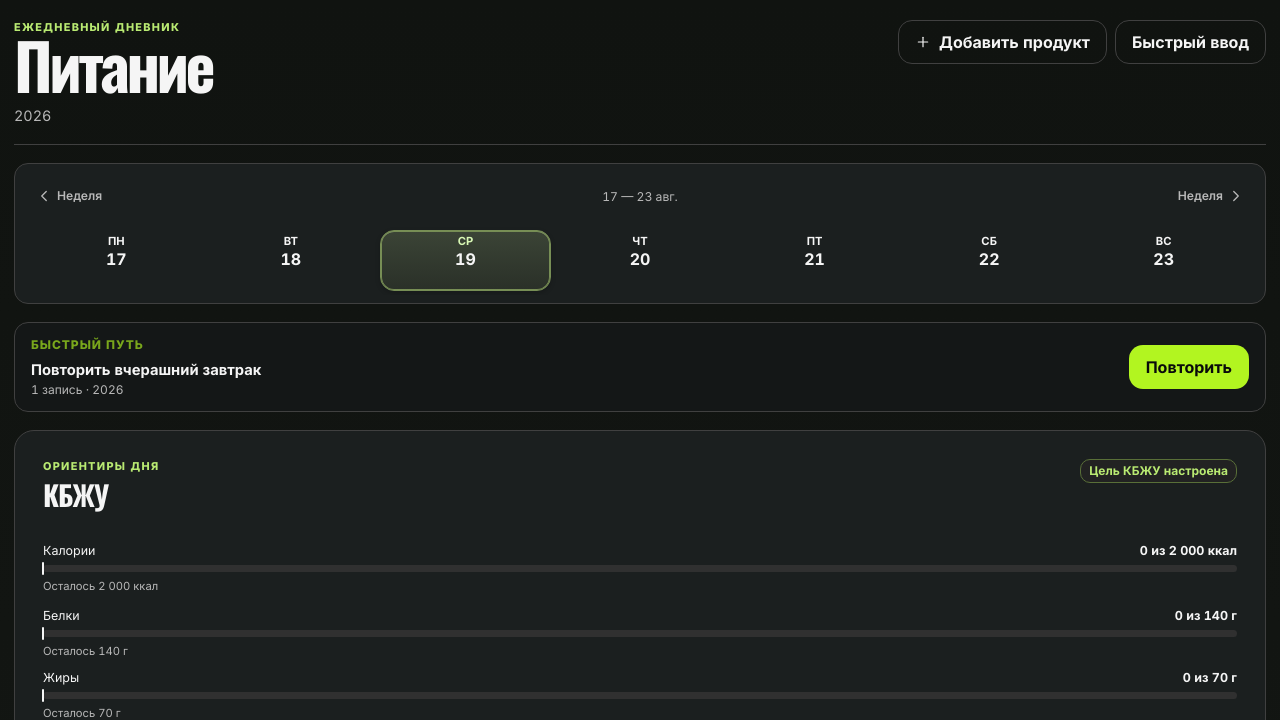
it: NutritionDiary › offers one deterministic prior-meal repeat as the Nutrition default
Check: the text "Повторить вчерашний завтрак" is shown, box [31,361,261,379]
Click the button with test id "nutrition-repeat-default" showing "Повторить" at [1189, 367], box [1129,345,1249,389]
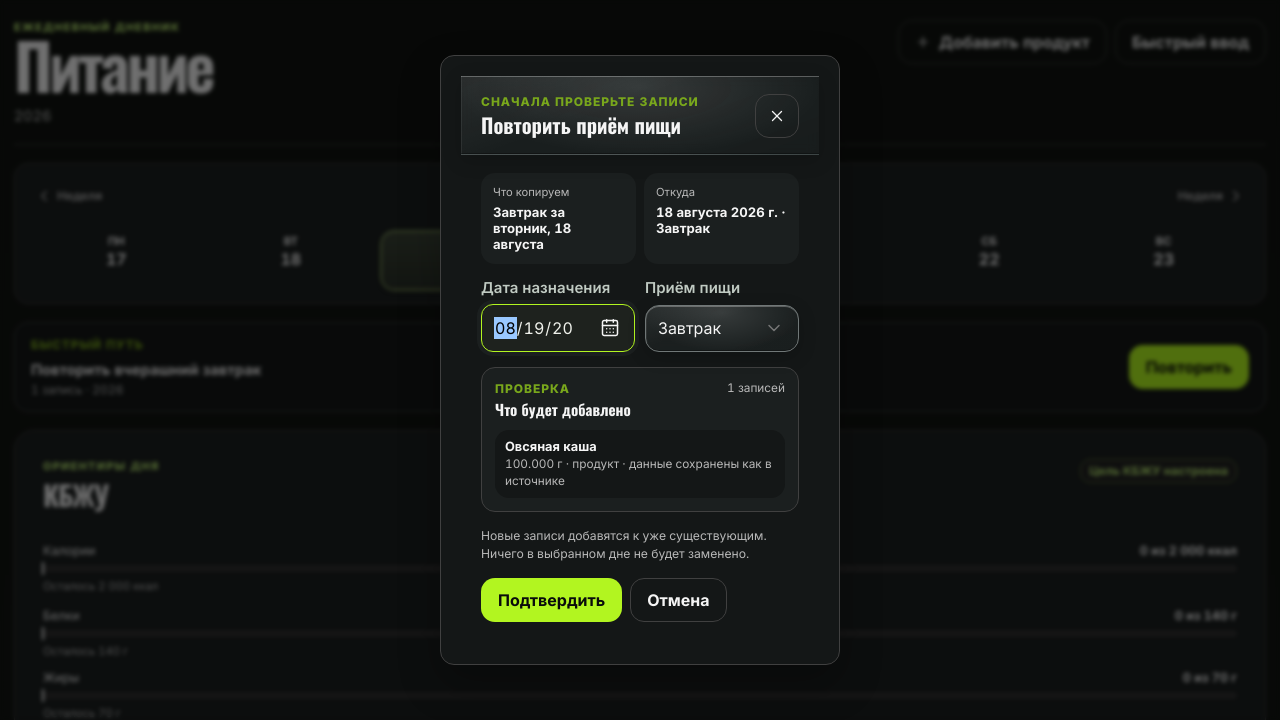
Check: the heading "Повторить приём пищи" is shown, box [481,115,699,140]
Check: the text "Овсяная каша" is shown, box [505,439,597,454]
Check: the button "Подтвердить" is enabled, box [481,578,622,622]
